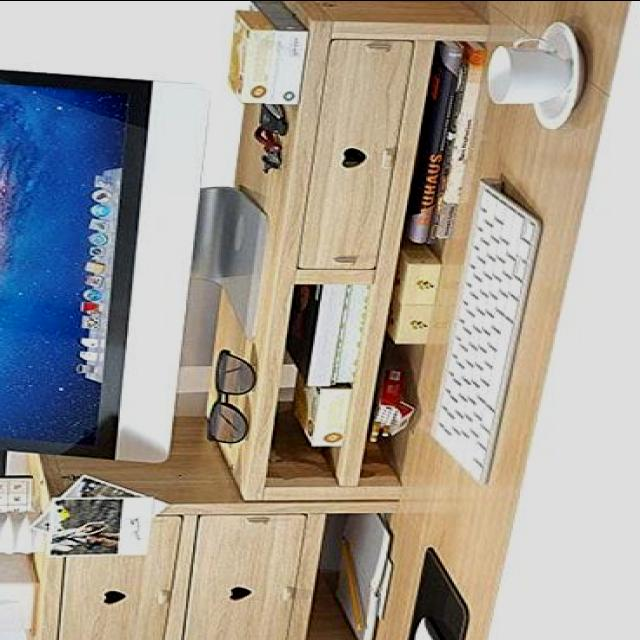keyboard: (423, 178, 547, 488)
